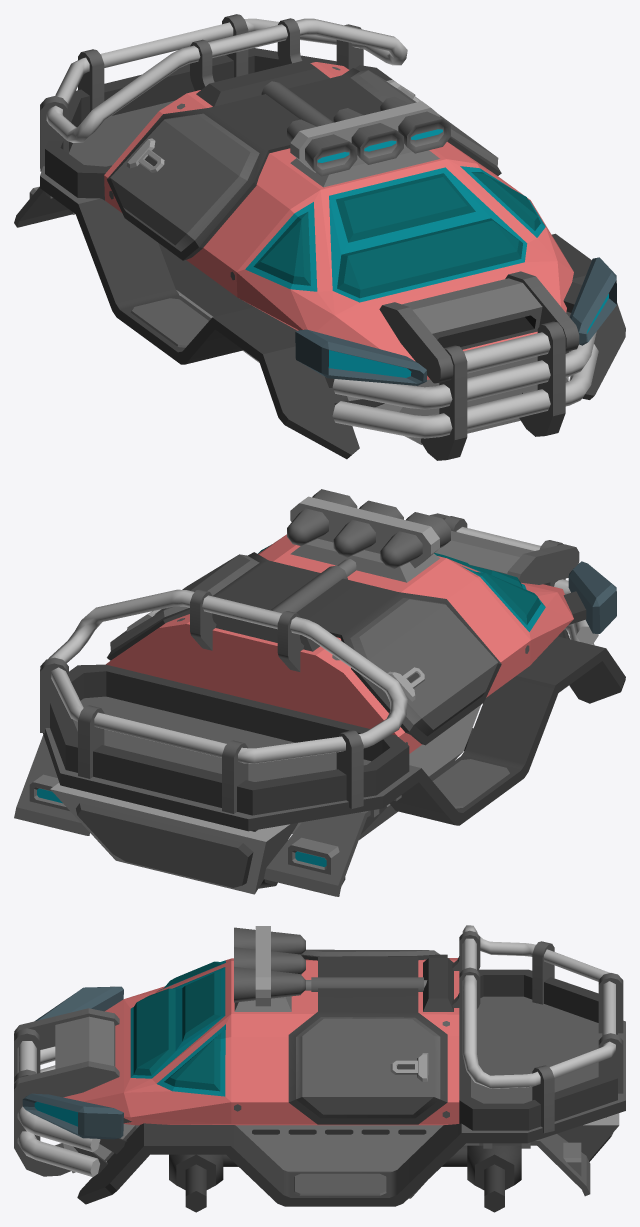
File: transport_002.fbx
3 views of the same model, one above another, from view 1: azimuth 30°, elevation 25°; view 2: azimuth 150°, elevation 25°; view 3: azimuth 270°, elevation 25° (orthographic). The views are drawn at different scales.
Visible parts, largest first — view 1: transport_002; view 2: transport_002; view 3: transport_002.
Part boxes in pixels (x1=…): transport_002: x1=14, y1=14, x2=625, y2=460; transport_002: x1=14, y1=489, x2=625, y2=896; transport_002: x1=14, y1=925, x2=625, y2=1212.
Size of the model in its own units: 313 by 562 by 237.
